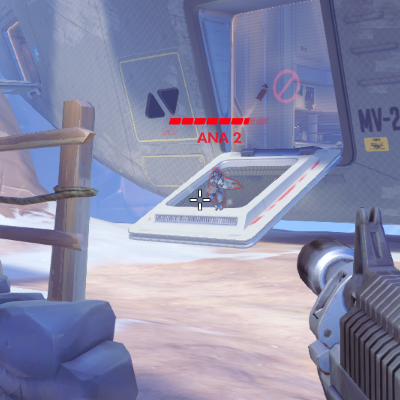hpbar: (169, 117, 269, 126)
